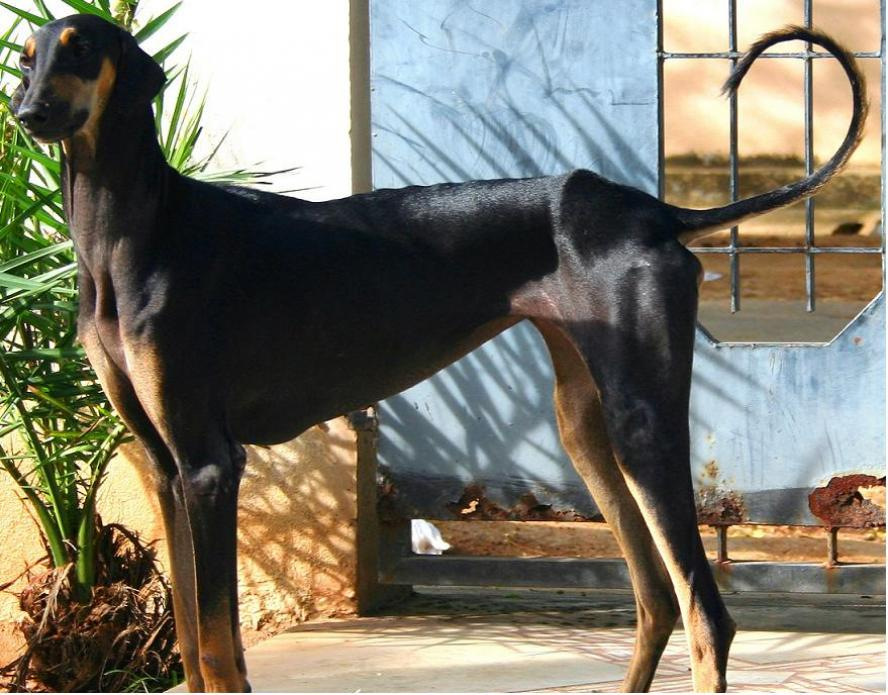dog: (12, 15, 869, 694)
